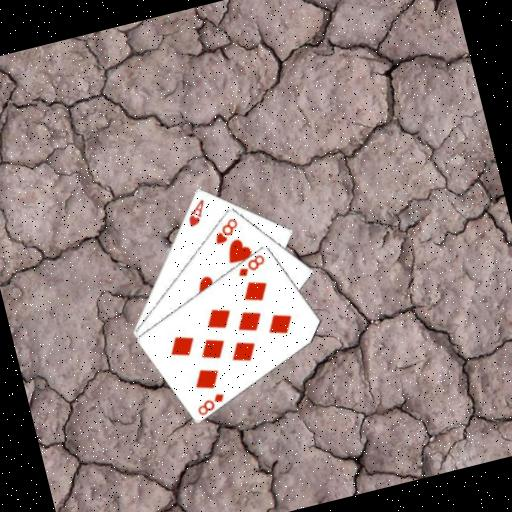8D: (232, 251, 270, 280), (192, 389, 230, 418)
8H: (208, 214, 244, 247)
AH: (181, 195, 211, 229)
